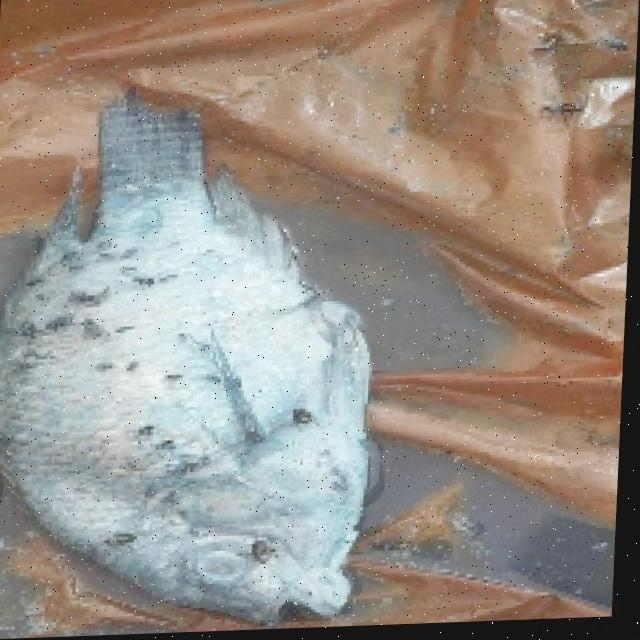Non-Fresh: (5, 151, 397, 639), (177, 529, 276, 605)
